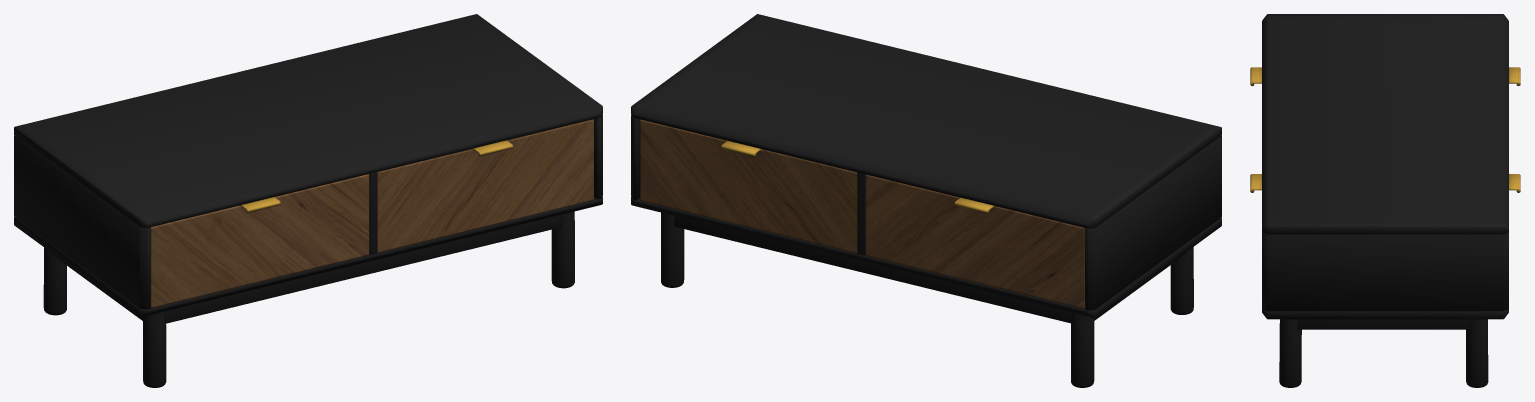
Rendered from belgrave.gltf.
3 views of the same model, side by side, from view 1: azimuth 30°, elevation 25°; view 2: azimuth 150°, elevation 25°; view 3: azimuth 270°, elevation 25° (orthographic). The views are drawn at different scales.
Visible parts, largest first — view 1: GRAPHITE001, DARK_STAINED_OAK001, BRASS001; view 2: GRAPHITE001, DARK_STAINED_OAK001, BRASS001; view 3: GRAPHITE001, BRASS001.
Part boxes in pixels (left/top/right/bottom): GRAPHITE001: left=14, top=14, right=602, bottom=387; DARK_STAINED_OAK001: left=150, top=119, right=593, bottom=308; BRASS001: left=240, top=140, right=512, bottom=212; GRAPHITE001: left=631, top=14, right=1221, bottom=387; DARK_STAINED_OAK001: left=640, top=119, right=1084, bottom=308; BRASS001: left=721, top=141, right=994, bottom=213; GRAPHITE001: left=1262, top=14, right=1508, bottom=387; BRASS001: left=1250, top=67, right=1520, bottom=192.
Size of what is drawn, in the model's own units: 98.96 by 36.97 by 53.16.
Materials: 3 (3 with a texture image).
